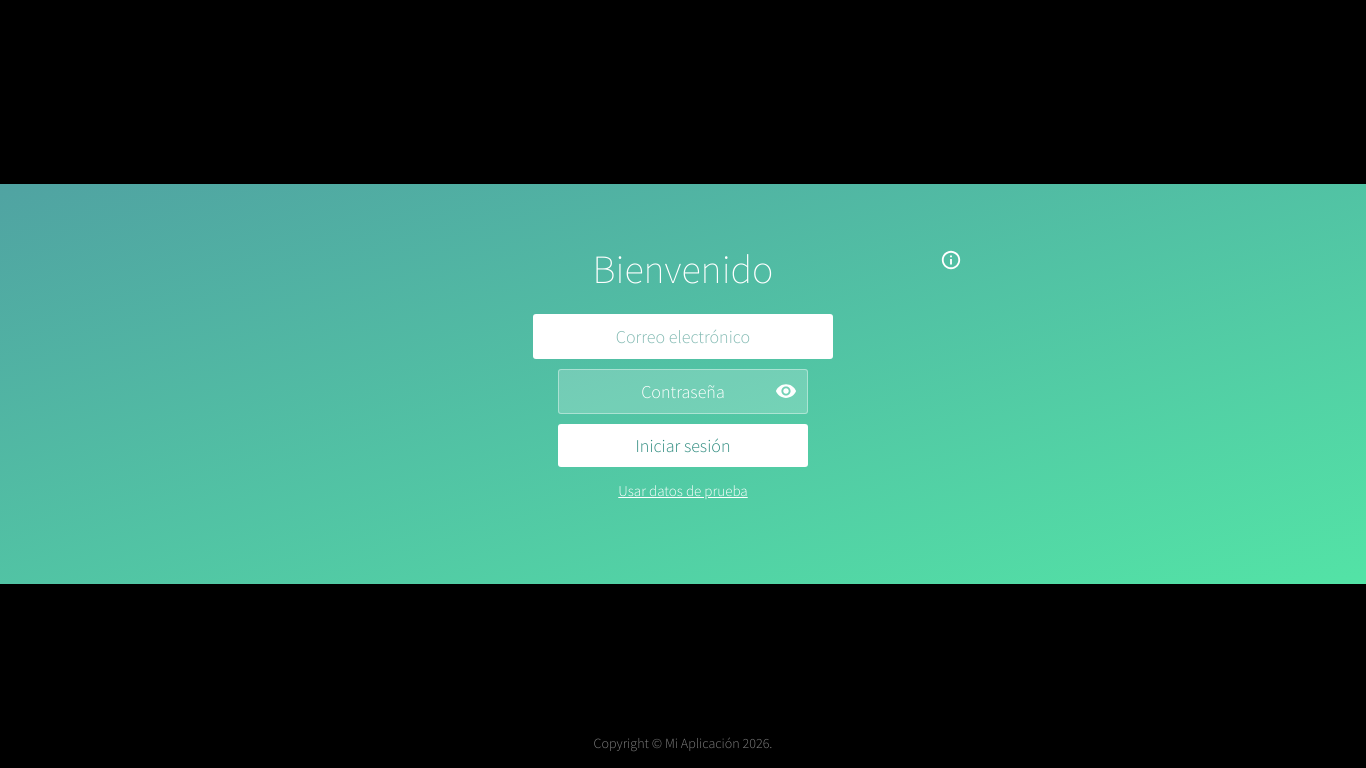
Test case: Flujo de login › CA-05: contraseña corta
Type "demo@correo.com" into the field labelled "Correo electrónico" at (683, 336), box [533, 314, 833, 359]
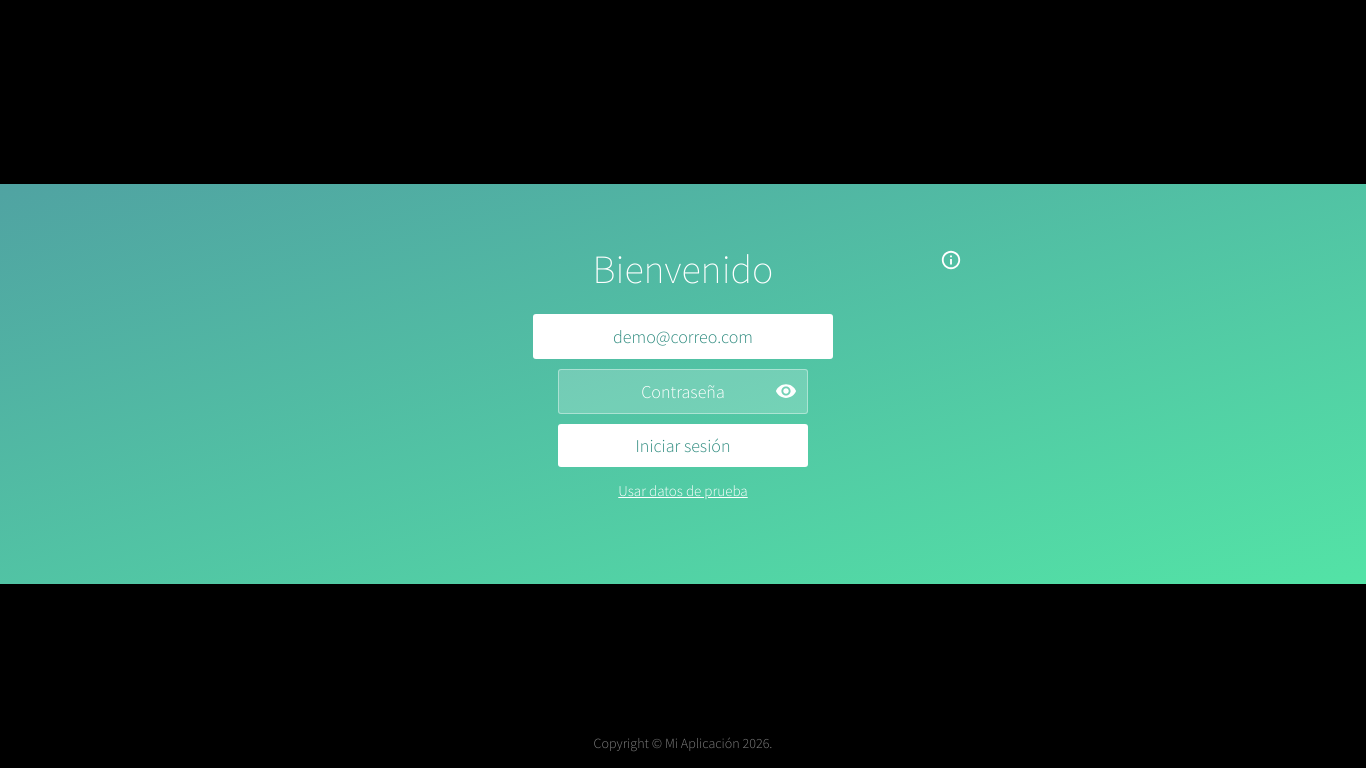
Type "123" into the password field labelled "Contraseña" at (683, 392), box [558, 369, 808, 414]
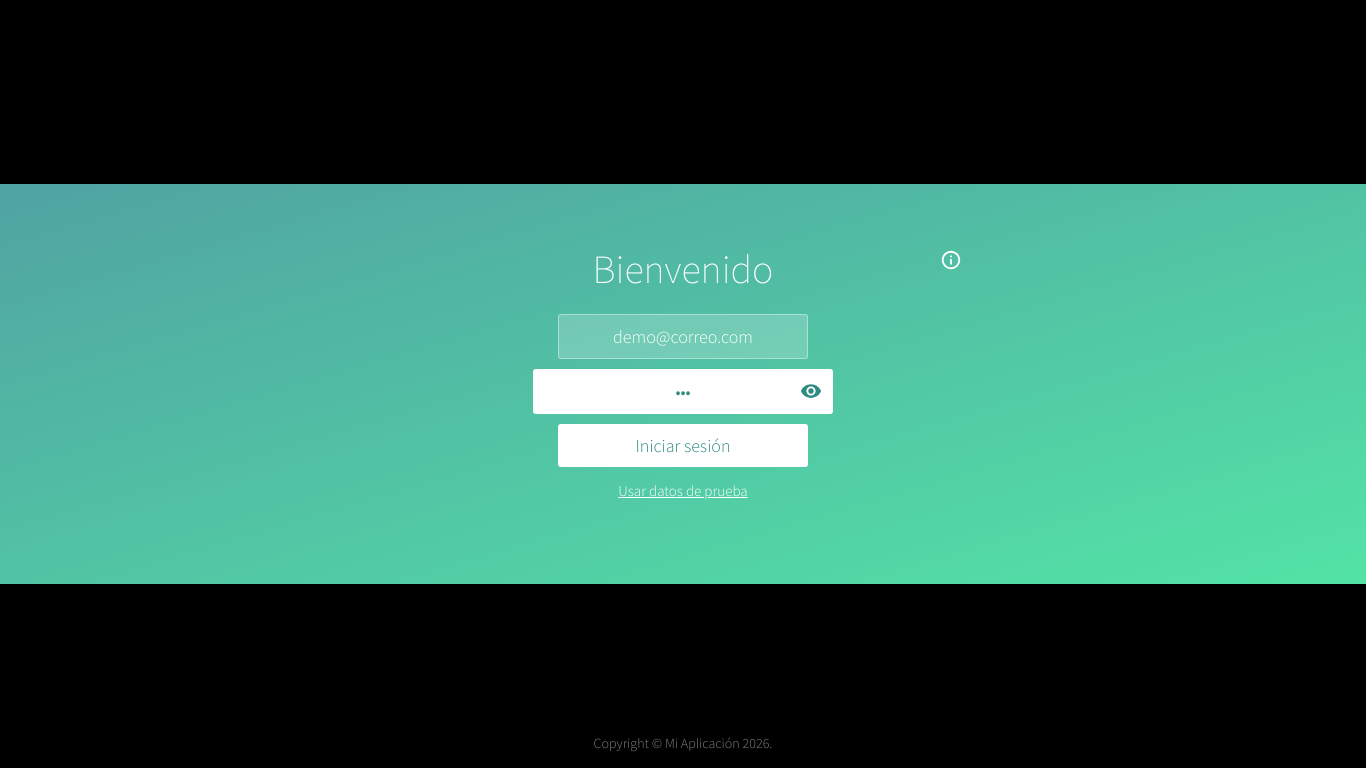
Click the button "Iniciar sesión" at (683, 446), box [558, 424, 808, 467]
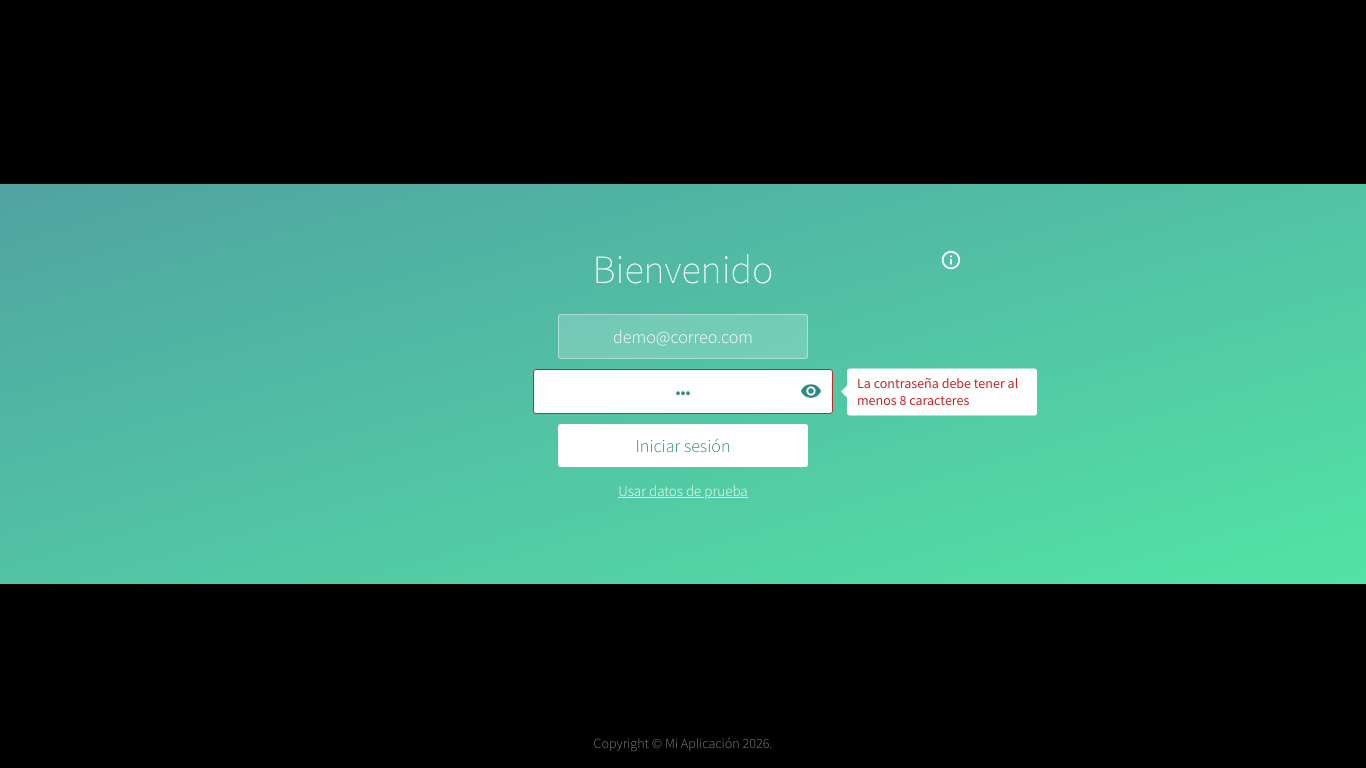
Expected: the text "La contraseña debe tener al menos 8 caracteres" is shown, [847, 368, 1037, 415]
